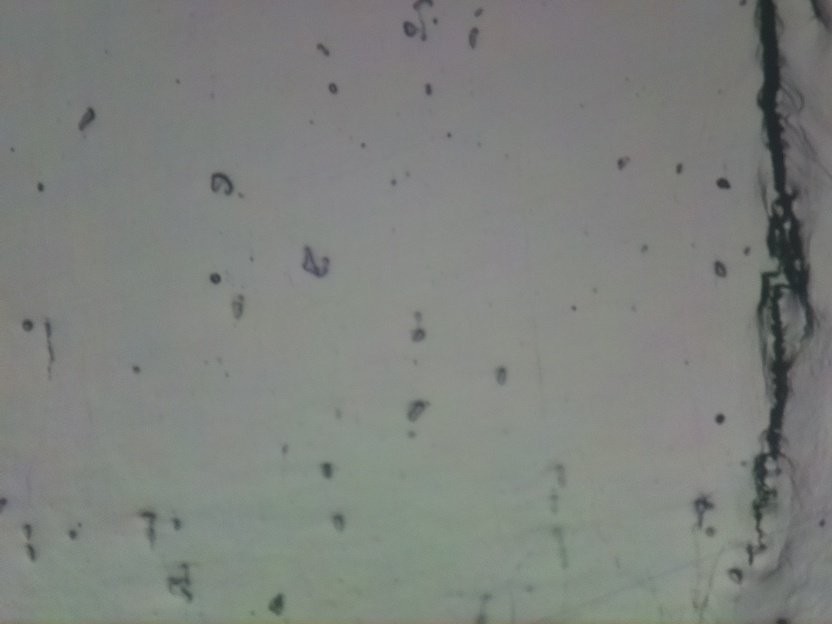crack: (751, 0, 811, 561)
